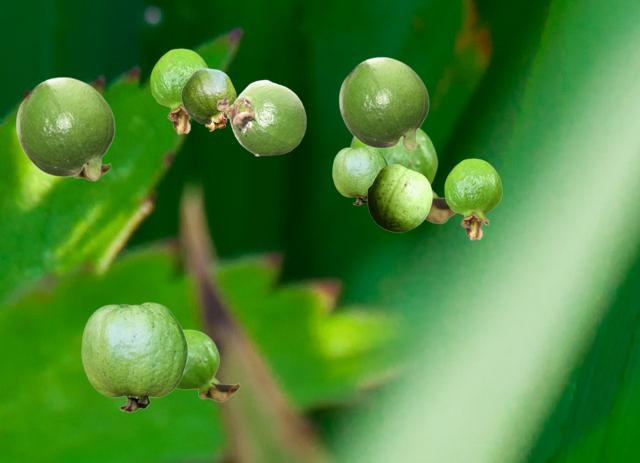guava: (81, 302, 187, 411), (15, 76, 114, 180), (349, 128, 456, 223), (338, 56, 428, 151), (216, 79, 306, 155), (150, 48, 208, 133), (444, 158, 501, 239), (176, 329, 239, 401), (367, 164, 431, 231), (181, 68, 235, 130), (332, 146, 388, 204), (73, 162, 110, 180)
